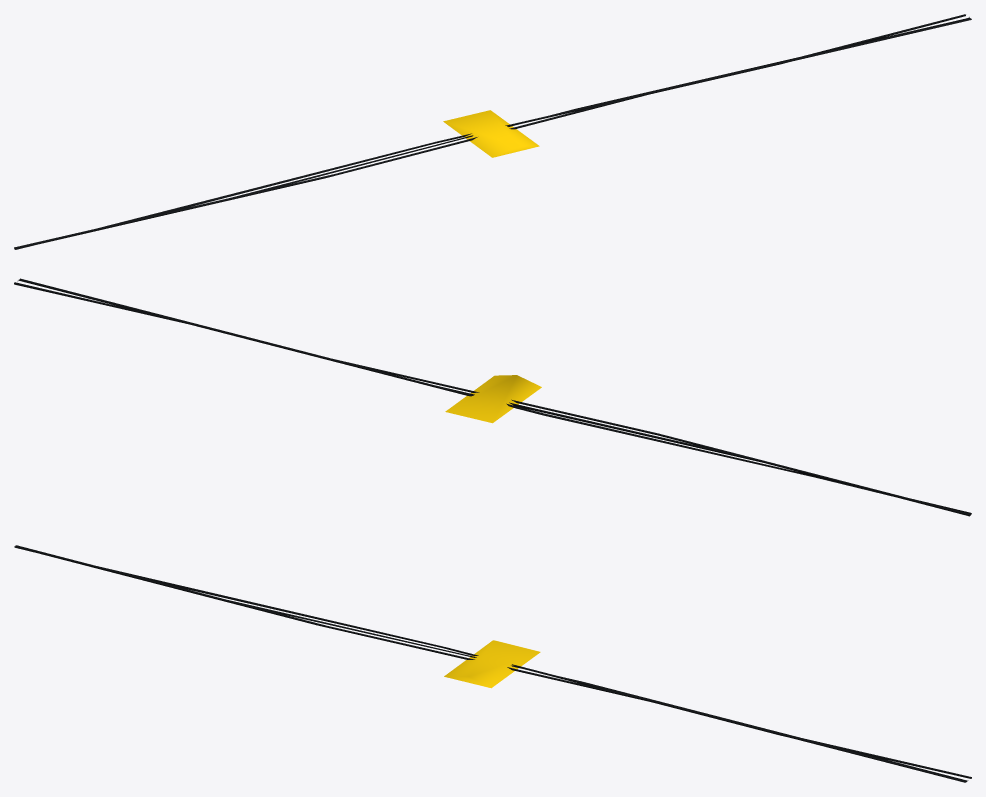
Rendered from cable_run_lod2.glb.
The picture shows the model from 3 angles, top to bottom: view 1: azimuth 30°, elevation 25°; view 2: azimuth 150°, elevation 25°; view 3: azimuth 330°, elevation 25°; orthographic projection.
Visible parts, largest first — view 1: cable_run__prop_black, cable_run__prop_yellow; view 2: cable_run__prop_black, cable_run__prop_yellow; view 3: cable_run__prop_black, cable_run__prop_yellow.
Part boxes in pixels (x1,y1,x2,y2): cable_run__prop_black: (14, 14, 971, 249); cable_run__prop_yellow: (443, 110, 539, 157); cable_run__prop_black: (14, 278, 971, 516); cable_run__prop_yellow: (445, 375, 541, 423); cable_run__prop_black: (14, 545, 971, 782); cable_run__prop_yellow: (444, 640, 540, 688).
Size of the model in its own units: 10 by 0.0606 by 0.9.
